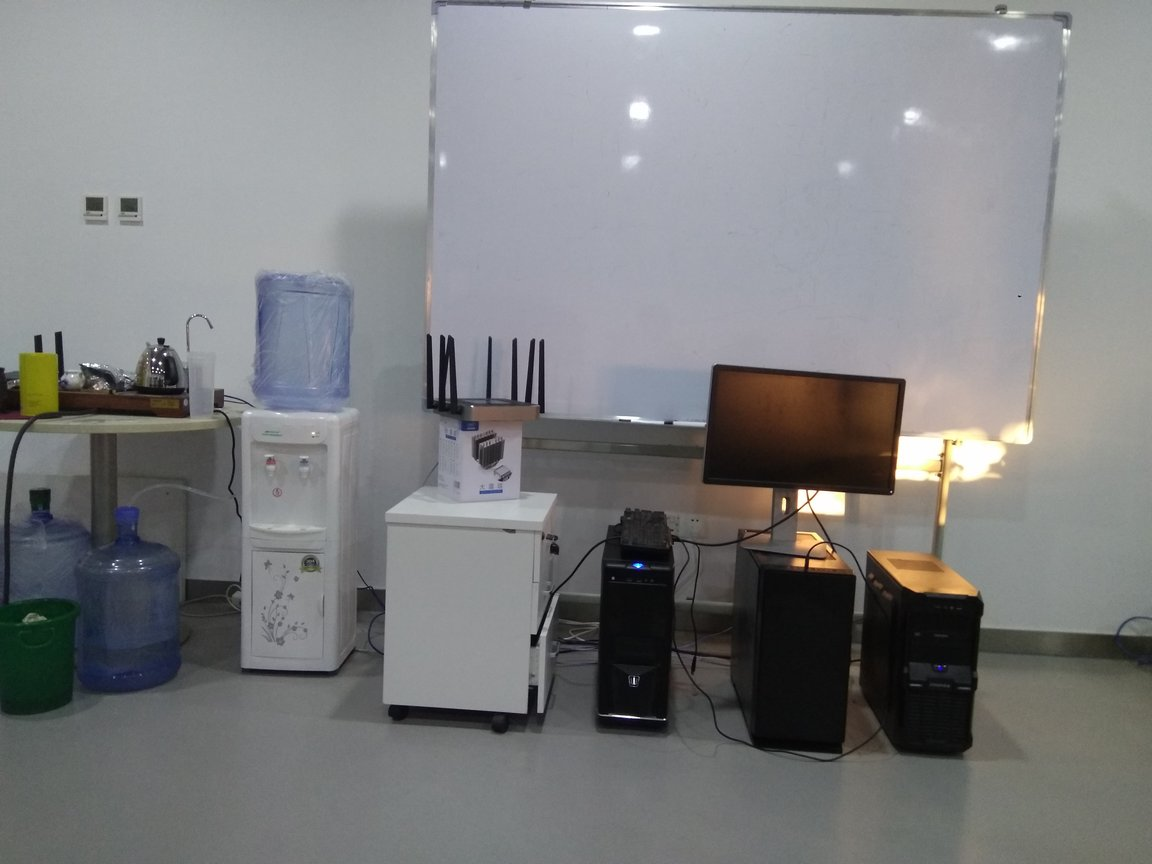computer: (732, 524, 848, 760), (863, 546, 979, 763), (595, 522, 679, 738)
drawer chest: (370, 484, 564, 733)
monitor: (702, 360, 924, 562)
scuttlebutt: (239, 260, 372, 425), (78, 507, 190, 702), (7, 480, 98, 664)
water dispenser: (232, 402, 369, 677)
